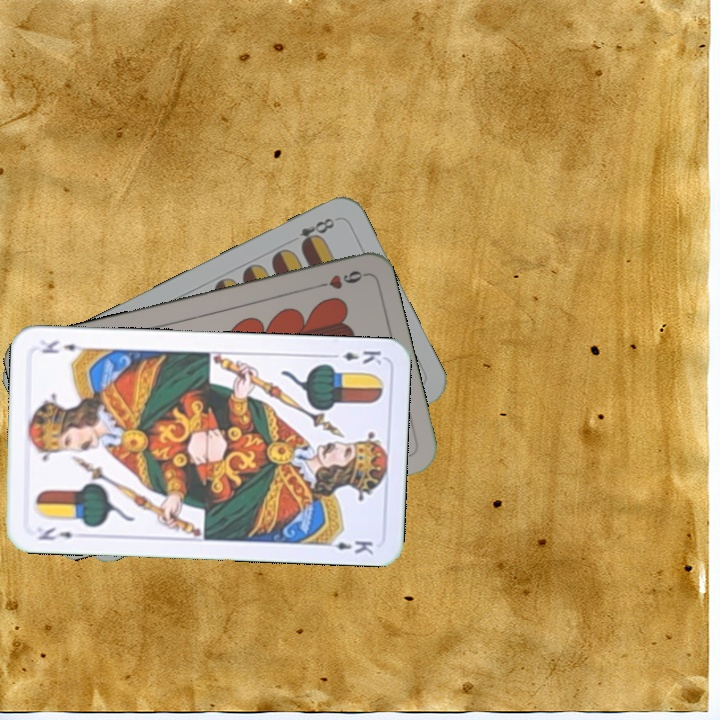E8: (295, 213, 337, 251)
EK: (325, 346, 384, 367), (34, 523, 75, 543)
H9: (309, 266, 368, 292)
